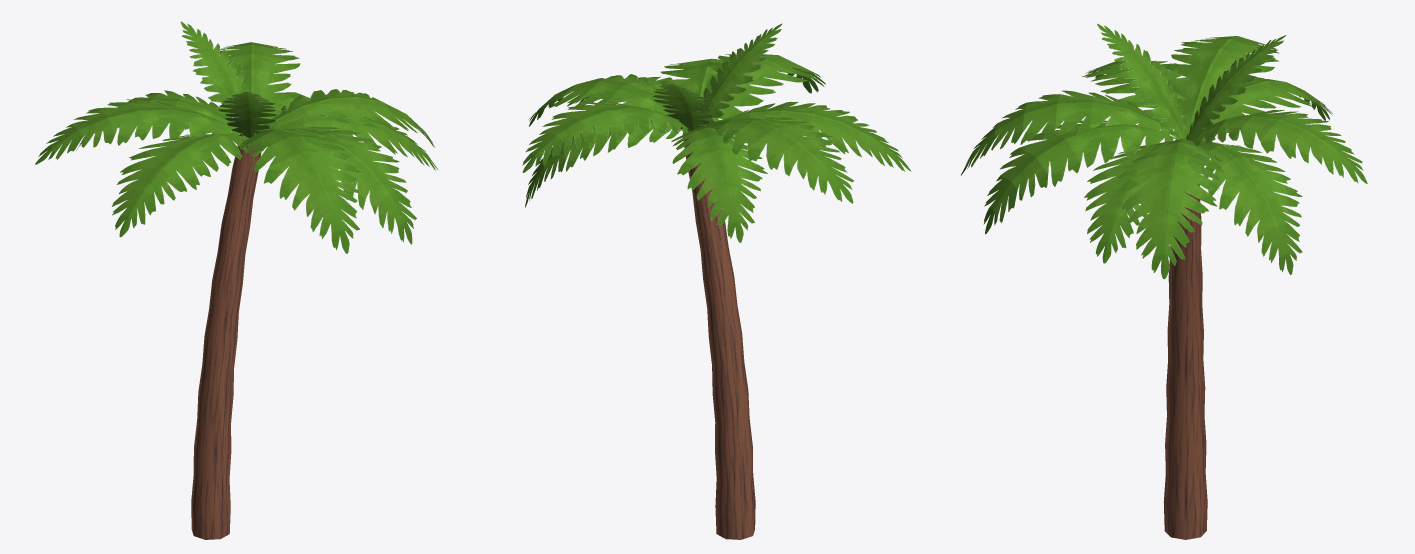
File: palm_3.gltf
3 renders of one model, left to right at view 1: azimuth 30°, elevation 25°; view 2: azimuth 150°, elevation 25°; view 3: azimuth 270°, elevation 25°, orthographic. The views are drawn at different scales.
Parts seen in each view (by area): view 1: palm_3; view 2: palm_3; view 3: palm_3.
Part boxes in pixels (<box>): palm_3: <box>35,21,437,539</box>; palm_3: <box>522,23,911,539</box>; palm_3: <box>960,23,1367,539</box>.
Bounding box in the file's own units: 4.76 × 5.57 × 4.46.
2 materials, 2 textured.
